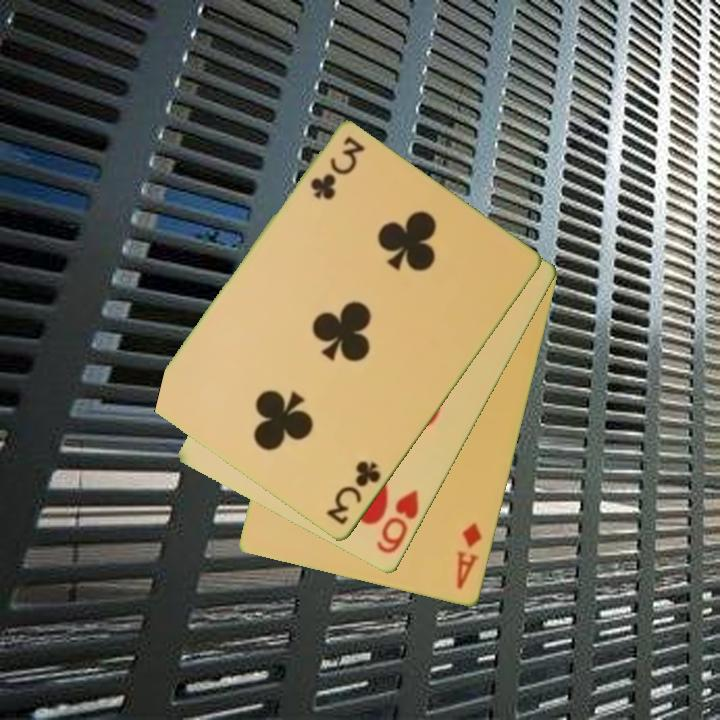3c: (323, 457, 384, 529), (306, 133, 367, 203)
6h: (373, 486, 422, 558)
Ad: (453, 519, 485, 593)
